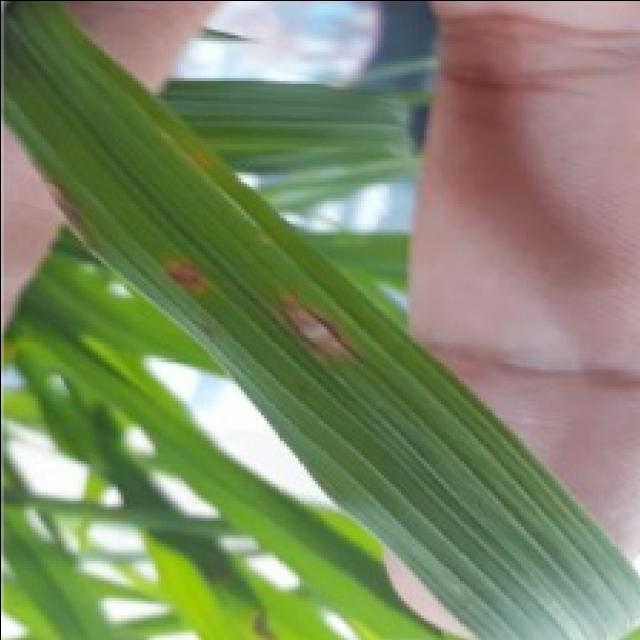Unhealthy: (278, 287, 361, 366), (36, 170, 83, 239), (164, 256, 206, 293)
